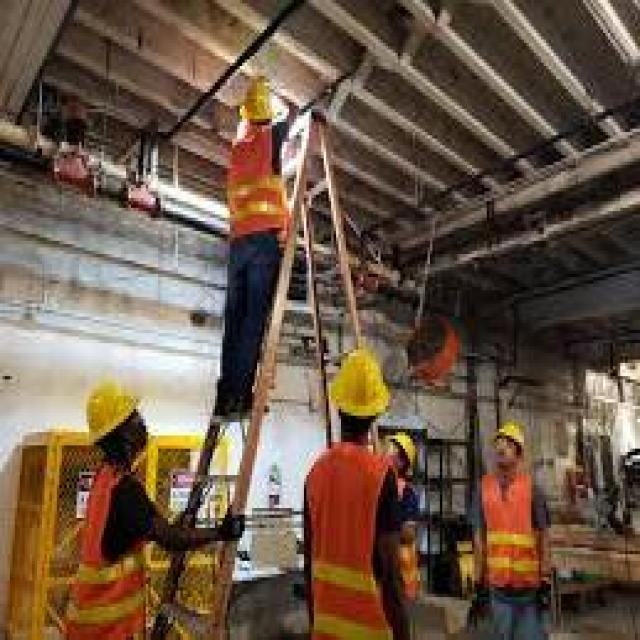Reflective-Jacket: (294, 442, 403, 640), (62, 452, 163, 640), (472, 465, 551, 607), (215, 129, 297, 257)
Safety-Helmet: (319, 333, 400, 429), (74, 363, 148, 452), (230, 66, 286, 132), (487, 409, 536, 462), (388, 426, 425, 478)
